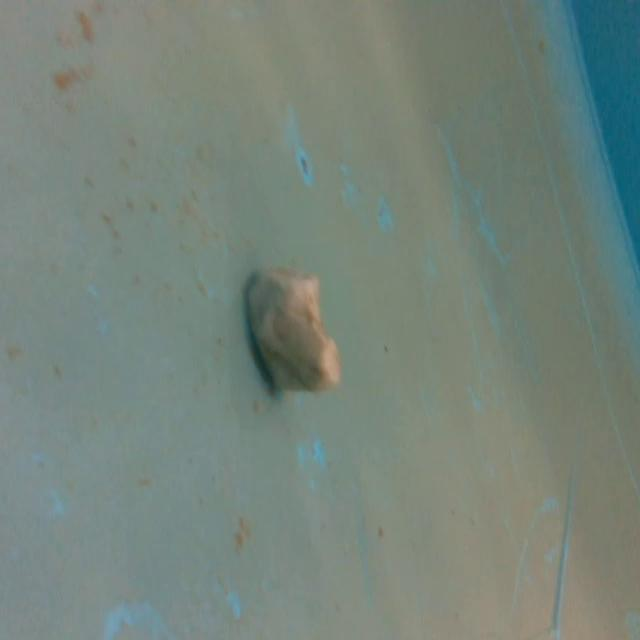rock: (245, 253, 347, 411)
